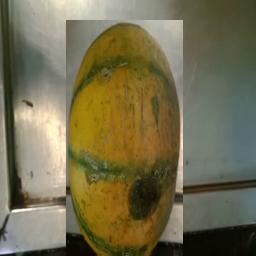Melon Semirotten: (66, 20, 183, 256)
